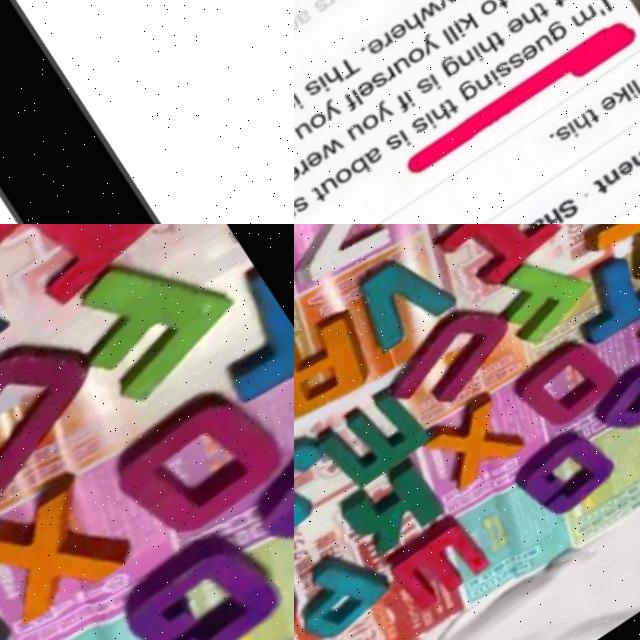A: (294, 542, 331, 640)
F: (45, 224, 257, 418), (487, 243, 604, 353)
G: (108, 517, 294, 640), (511, 414, 630, 526)
I: (0, 224, 192, 329), (429, 224, 566, 299)
J: (294, 433, 354, 544)
K: (336, 448, 458, 562)
L: (577, 224, 640, 302)
M: (313, 377, 437, 492)
O: (95, 365, 294, 557), (506, 324, 632, 439)
P: (294, 539, 399, 640)
R: (294, 297, 385, 431)
S: (246, 417, 294, 583), (580, 335, 640, 461)
T: (552, 238, 640, 352)
U: (0, 311, 125, 527), (383, 294, 528, 422)
V: (336, 240, 460, 358)
W: (386, 502, 508, 614)
X: (0, 465, 138, 634), (417, 386, 535, 496)
Z: (294, 224, 417, 298)
